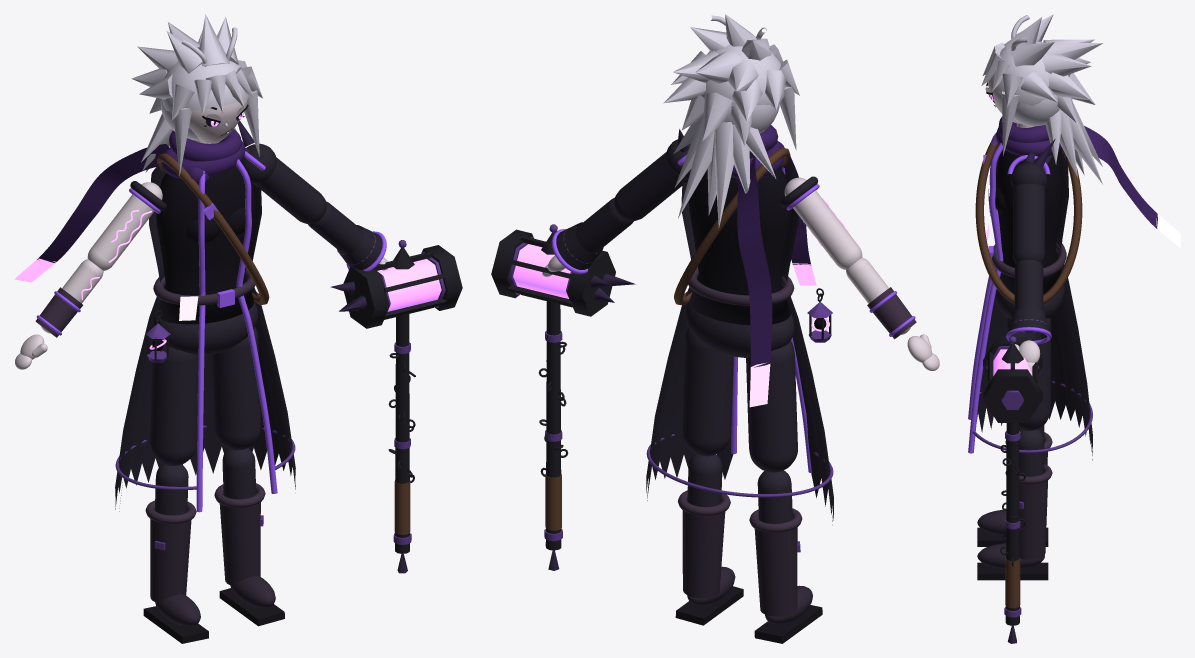
File: hollin.glb
3 views of the same model, side by side, from view 1: azimuth 30°, elevation 25°; view 2: azimuth 150°, elevation 25°; view 3: azimuth 270°, elevation 25° (orthographic). The views are drawn at different scales.
Parts seen in each view (by area): view 1: Coat, Torso, Thigh_R, Thigh_L, Scarf_Tail_Back_Mesh, Boot_Shaft_R, Boot_Shaft_L, Pelvis, Hammer_Handle, Sleeve_Upper_L, Arm_Upper_R, Coat_Trim_L (+26 smaller); view 2: Torso, Coat, Thigh_L, Mane, Thigh_R, Scarf_Tail_Back_Mesh, Boot_Shaft_R, Boot_Shaft_L, Arm_Upper_R, Pelvis, Hammer_Handle, Sleeve_Upper_L (+26 smaller); view 3: Coat, Torso, Bandolier, Sleeve_Upper_L, Hammer_Cap_Face, Mane, Boot_Shaft_L, Hammer_Handle, Coat_Trim_L, Sleeve_Lower_L, Scarf_Tail_Back_Mesh, Thigh_L (+31 smaller).
Boxes of the visible parts, x1,y1,x2,y2 form: Coat: (115, 148, 295, 511); Torso: (156, 160, 254, 324); Thigh_R: (149, 345, 198, 465); Thigh_L: (211, 327, 261, 450); Scarf_Tail_Back_Mesh: (37, 144, 169, 262); Boot_Shaft_R: (150, 519, 191, 603); Boot_Shaft_L: (219, 502, 260, 586); Pelvis: (153, 302, 257, 355); Hammer_Handle: (395, 313, 409, 553); Sleeve_Upper_L: (254, 157, 326, 223); Arm_Upper_R: (87, 182, 162, 270); Coat_Trim_L: (236, 159, 277, 493); Torso: (689, 153, 791, 325); Coat: (646, 158, 833, 525); Thigh_L: (682, 328, 733, 456); Mane: (673, 116, 776, 228); Thigh_R: (746, 340, 797, 472); Scarf_Tail_Back_Mesh: (737, 157, 772, 367); Boot_Shaft_R: (754, 527, 797, 616); Boot_Shaft_L: (682, 510, 725, 598); Arm_Upper_R: (784, 177, 862, 269); Pelvis: (685, 302, 794, 357); Hammer_Handle: (545, 300, 561, 550); Sleeve_Upper_L: (614, 152, 688, 221); Coat: (976, 144, 1092, 460); Torso: (996, 150, 1062, 294); Bandolier: (975, 141, 1082, 304); Sleeve_Upper_L: (1013, 183, 1044, 263); Hammer_Cap_Face: (983, 369, 1042, 422); Mane: (1045, 99, 1102, 184); Boot_Shaft_L: (1019, 480, 1047, 559); Hammer_Handle: (1005, 423, 1019, 625); Coat_Trim_L: (968, 142, 1003, 453); Sleeve_Lower_L: (1014, 259, 1043, 332); Scarf_Tail_Back_Mesh: (1084, 126, 1157, 228); Thigh_L: (1007, 318, 1050, 430).
Size of the model in its own units: 1.4 by 1.86 by 0.6585.
